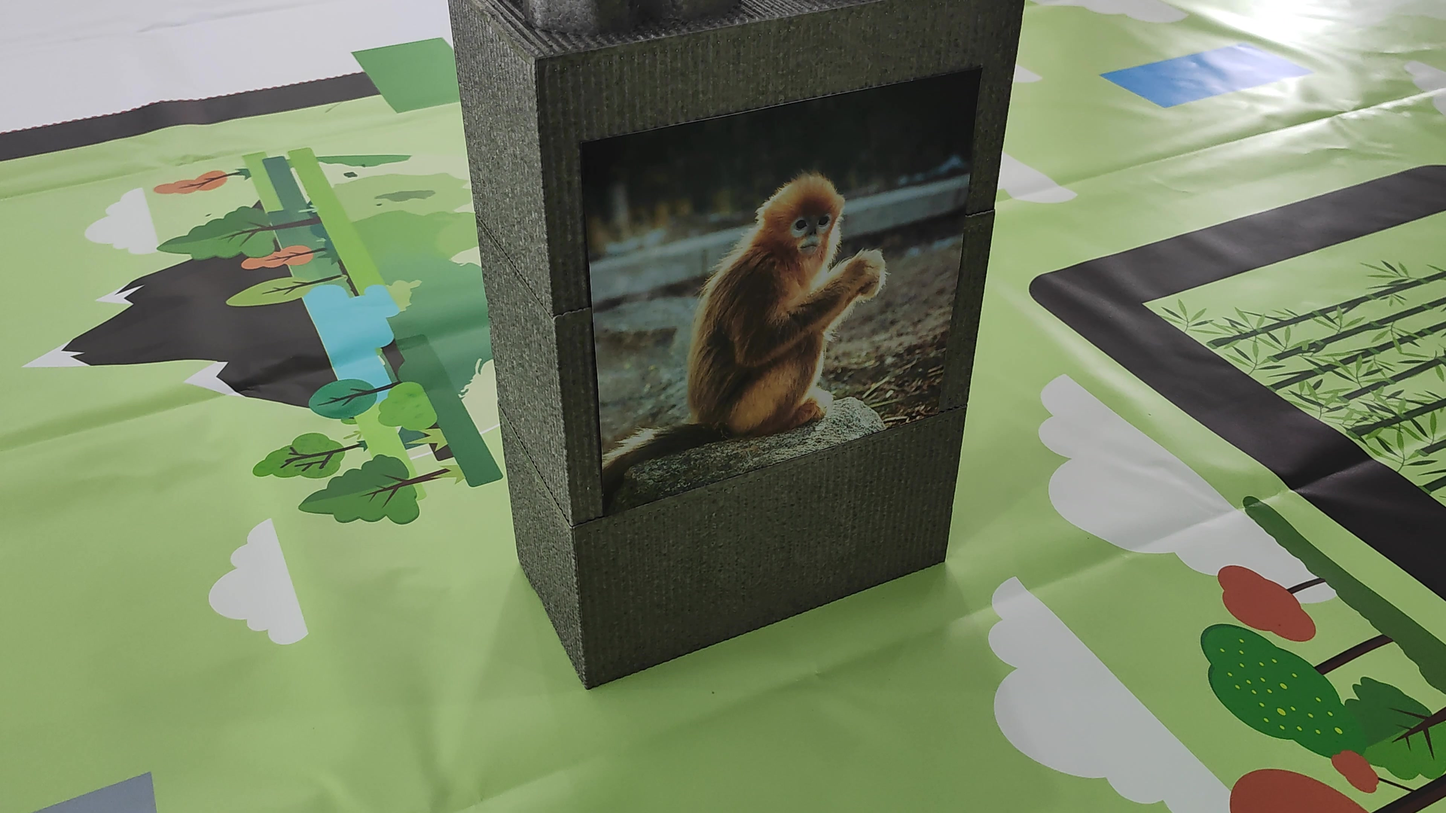monkey: (606, 147, 894, 507)
